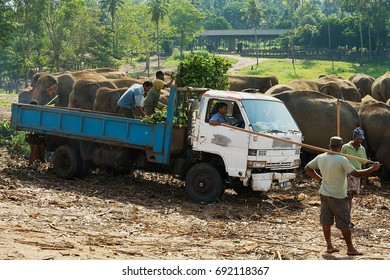truck: (10, 84, 303, 205)
